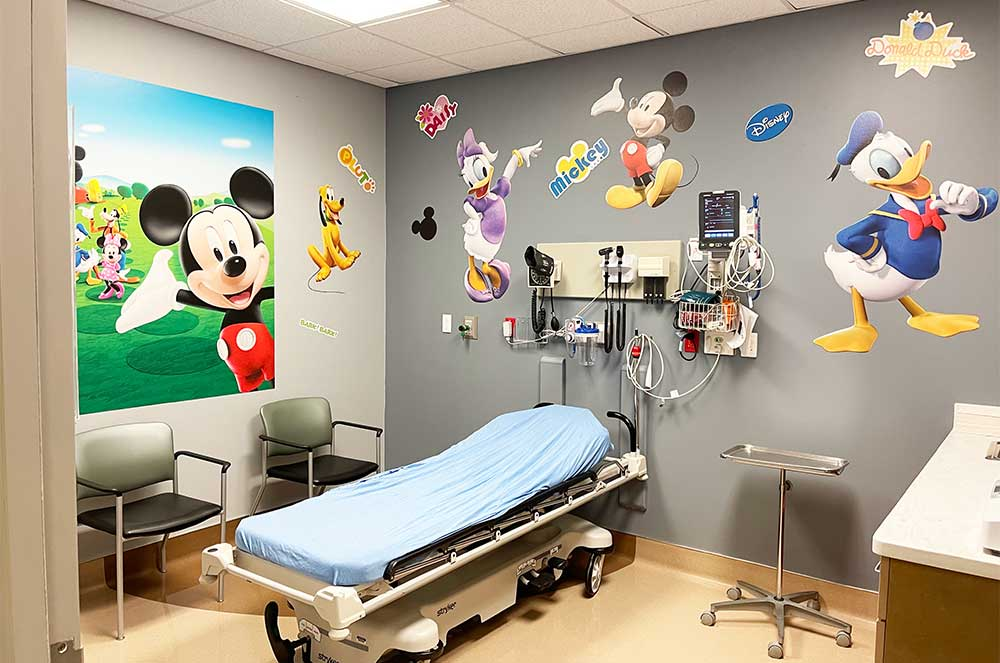bedside_monitor: (691, 186, 746, 259)
chair: (77, 424, 230, 639), (248, 397, 384, 516)
counter: (868, 399, 1000, 656)
countertop: (874, 404, 1000, 561)
hospital_bed: (198, 403, 649, 663)
utility_cart: (699, 441, 855, 653)
